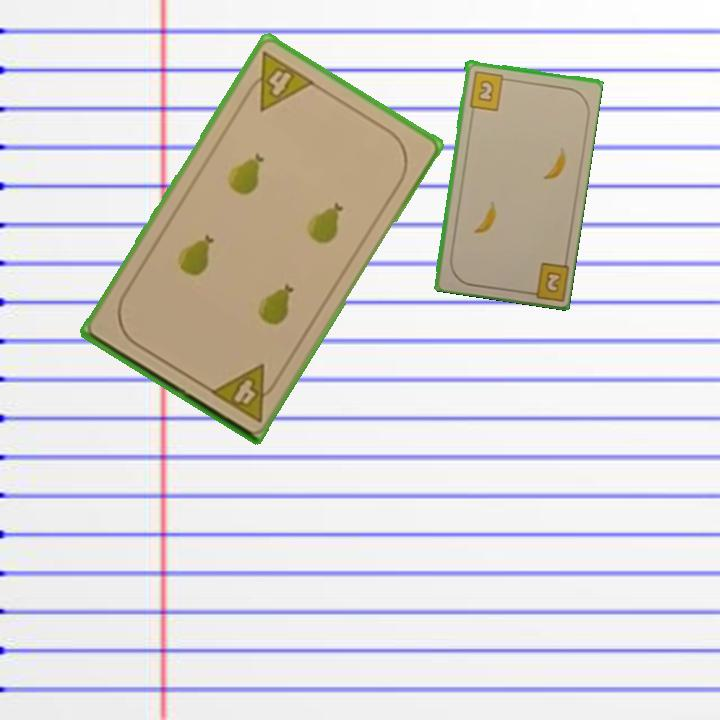2b: (465, 67, 512, 113), (521, 258, 570, 302)
4p: (238, 48, 318, 114), (206, 360, 283, 425)
